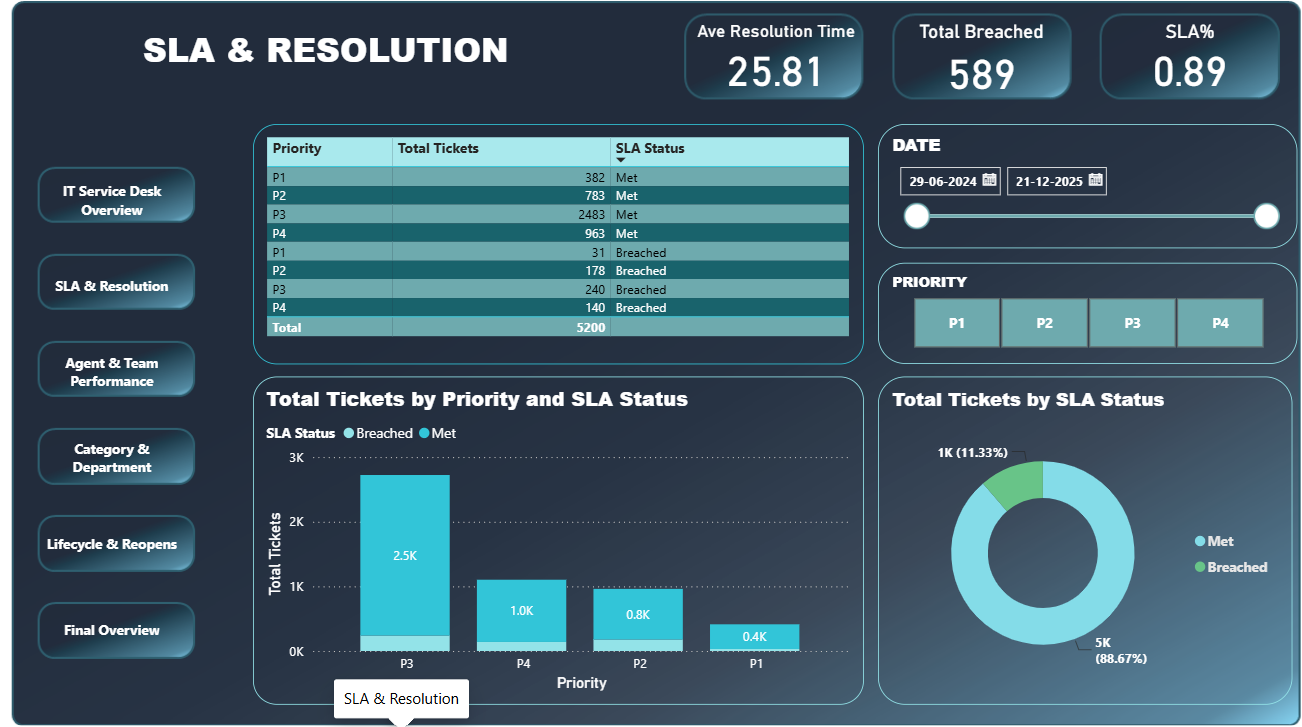

This screenshot's page, from the dashboard's own definition file:
{"tool":"powerbi","page":{"name":"SLA & Resolution","canvas":[1280,720],"ordinal":1},"visuals":[{"type":"donutChart","fields":{"Category":["Tickets.SLA Status"],"Y":["Measure Table.Total Tickets"]},"box":[859.5,373.8,400,316.7],"z":0},{"type":"slicer","title":"DATE","fields":{"Values":["Date Table.Date"]},"box":[859.5,129.8,404.8,120.2],"z":1000},{"type":"card","title":"SLA%","fields":{"Values":["Measure Table.SLA Compliance %"]},"box":[1081,29.8,158.3,71.4],"z":2000},{"type":"card","title":"Total Breached","fields":{"Values":["Measure Table.Breach Count"]},"box":[879.8,29.8,158.3,76.2],"z":3000},{"type":"card","title":"Ave Resolution Time","fields":{"Values":["Measure Table.Avg Resolution Time"]},"box":[677.4,29.8,167.9,71.4],"z":4000},{"type":"tableEx","fields":{"Values":["Tickets.Priority","Measure Table.Total Tickets","Tickets.SLA Status"]},"box":[256,129.8,589.3,232.1],"z":5000},{"type":"slicer","title":"PRIORITY","fields":{"Values":["SLA_Definitions.Priority"]},"box":[859.5,264.3,404.8,97.6],"z":6000},{"type":"columnChart","fields":{"Category":["Tickets.Priority"],"Series":["Tickets.SLA Status"],"Y":["Measure Table.Total Tickets"]},"box":[256,373.8,589.3,316.7],"z":7000},{"type":"textbox","box":[31,29.8,589.3,76.2],"z":8000},{"type":"pageNavigator","box":[47.6,166.7,145.2,489.3],"z":9000}]}

Visuals, with their boxes in screenshot pixels (x1, y1, x2, y2), scaled from the page's 1280x720 canvas onto the 1302x727 screenshot:
donutChart - Tickets.SLA Status x Measure Table.Total Tickets: 874:377:1281:697
"DATE" slicer: 874:131:1286:252
"SLA%" card: 1100:30:1261:102
"Total Breached" card: 895:30:1056:107
"Ave Resolution Time" card: 689:30:860:102
tableEx - Tickets.Priority x Measure Table.Total Tickets: 260:131:860:365
"PRIORITY" slicer: 874:267:1286:365
columnChart - Tickets.Priority x Tickets.SLA Status: 260:377:860:697
textbox: 32:30:631:107
pageNavigator: 48:168:196:662
